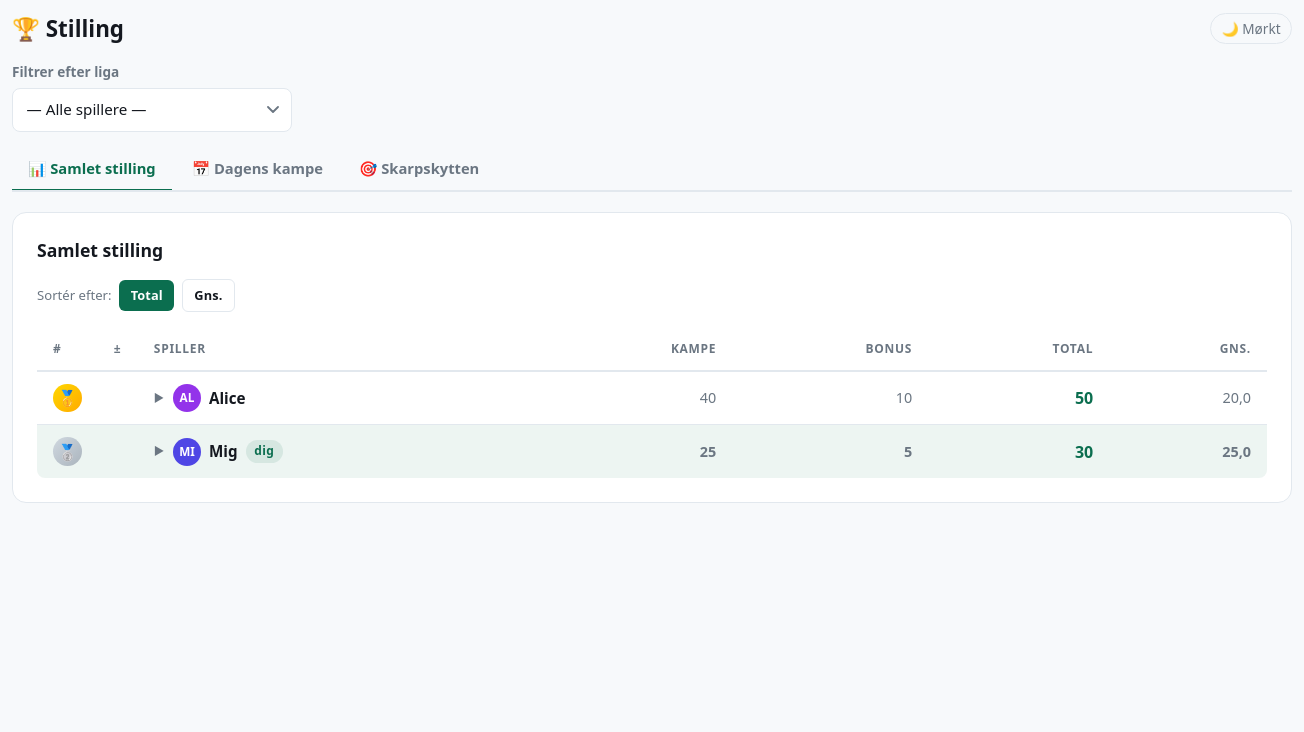
Scenario: LeaderboardPage › viser daglige point i dagsfanen
Click the tab "📅 Dagens kampe": (257, 170) [176,148,339,192]
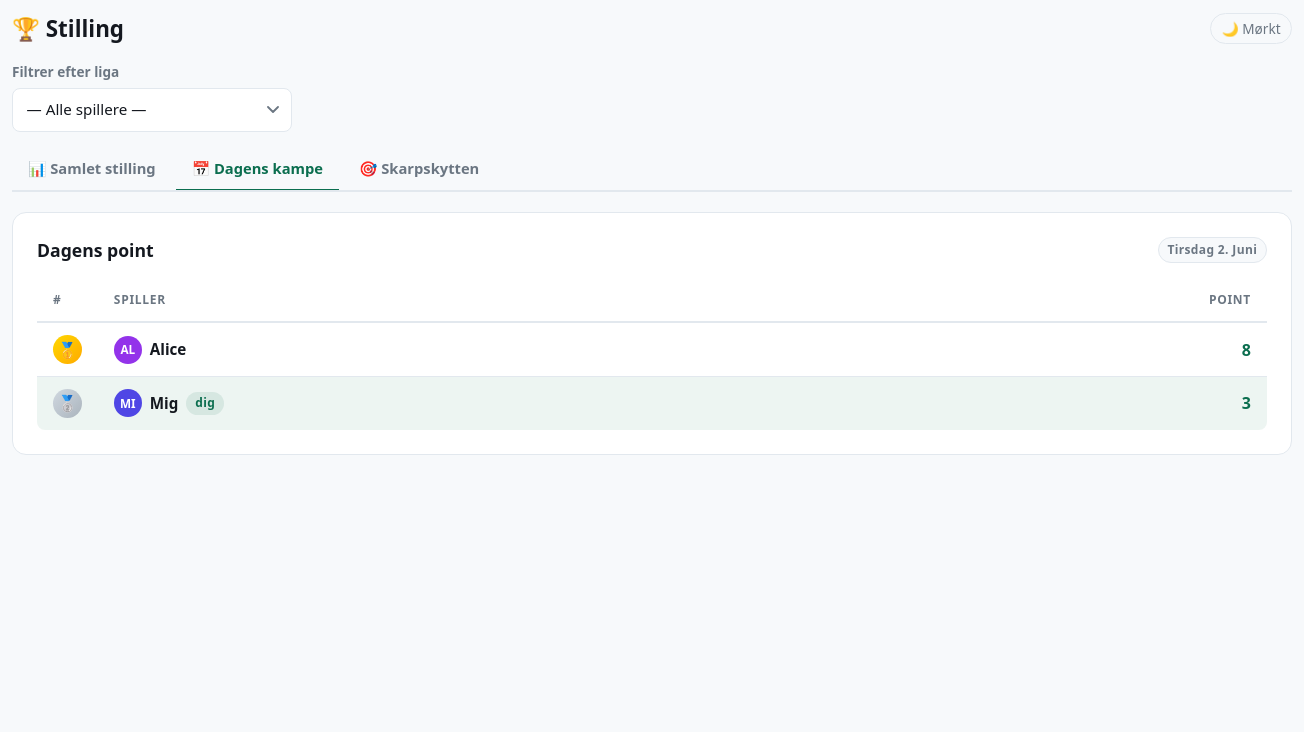
Expected: the text "3" is shown, [1242,392,1251,414]
Now the text "8" is shown, box [1242,339,1251,361]
